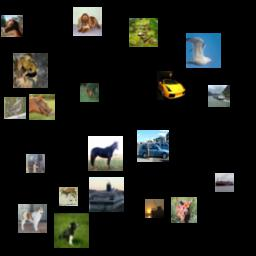automobile: (137, 130, 169, 162), (157, 71, 186, 100)
bird: (186, 33, 221, 68), (4, 97, 26, 119)
deer: (129, 18, 158, 47), (171, 197, 197, 223), (80, 83, 99, 102), (59, 187, 78, 206)
dog: (54, 213, 89, 248), (73, 7, 102, 36), (18, 204, 47, 233)
frog: (13, 53, 48, 88)
ship: (89, 177, 124, 212), (208, 85, 230, 107), (145, 199, 164, 218), (215, 173, 234, 192)
truck: (26, 154, 45, 173)
